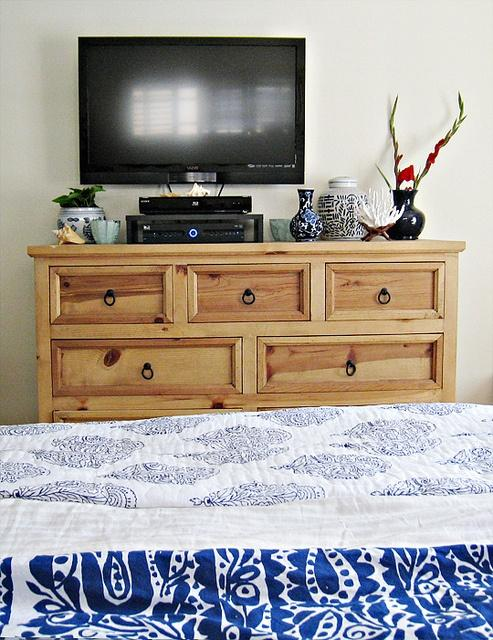AIO PC-Monitor-TV: (75, 34, 305, 188)
